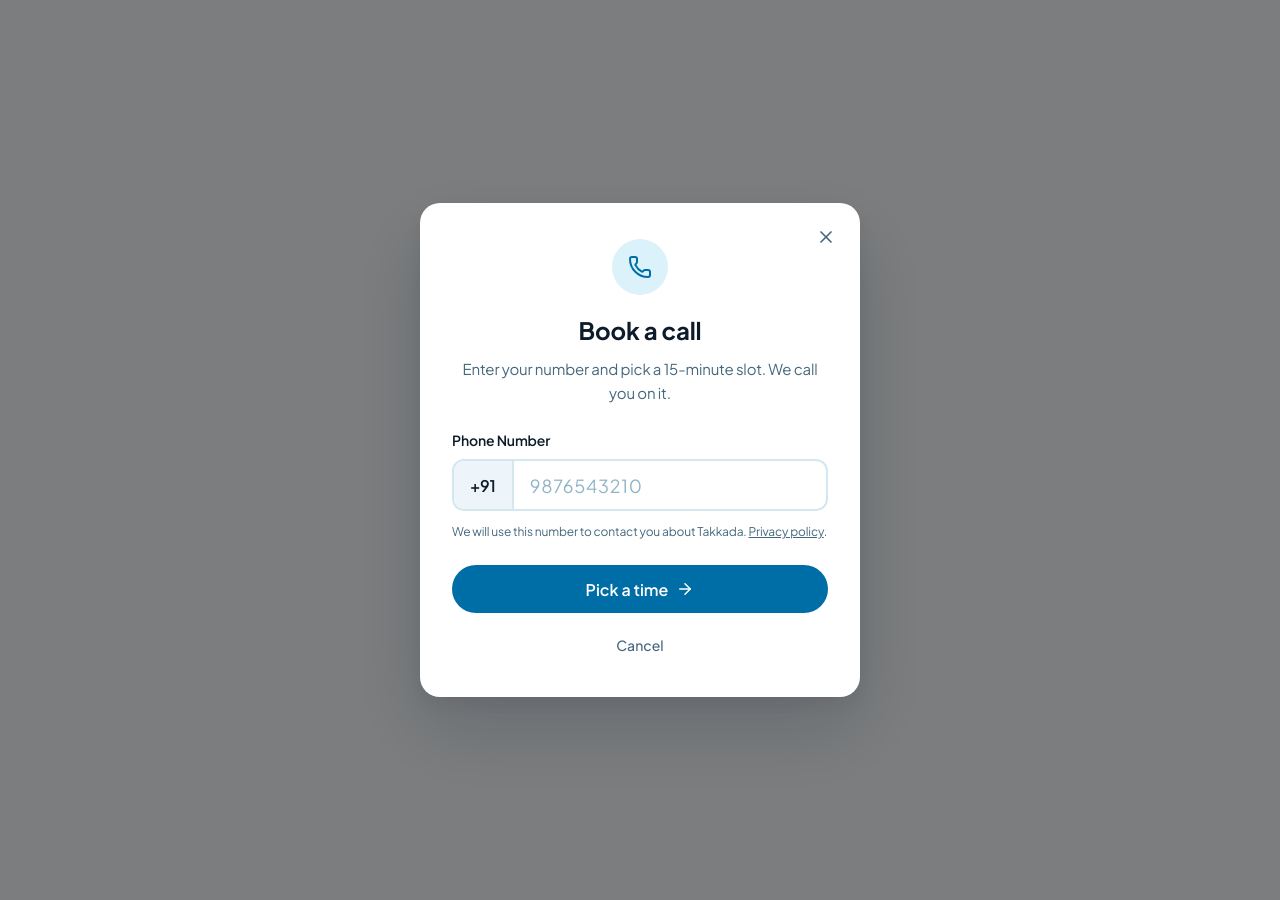
Scenario: PhoneModal › shows a validation error before submitting
What coordinates should you click on to do the following:
click the button "Pick a time"
I would click on:
 (640, 589)
Its box is 452,565 -> 828,613.
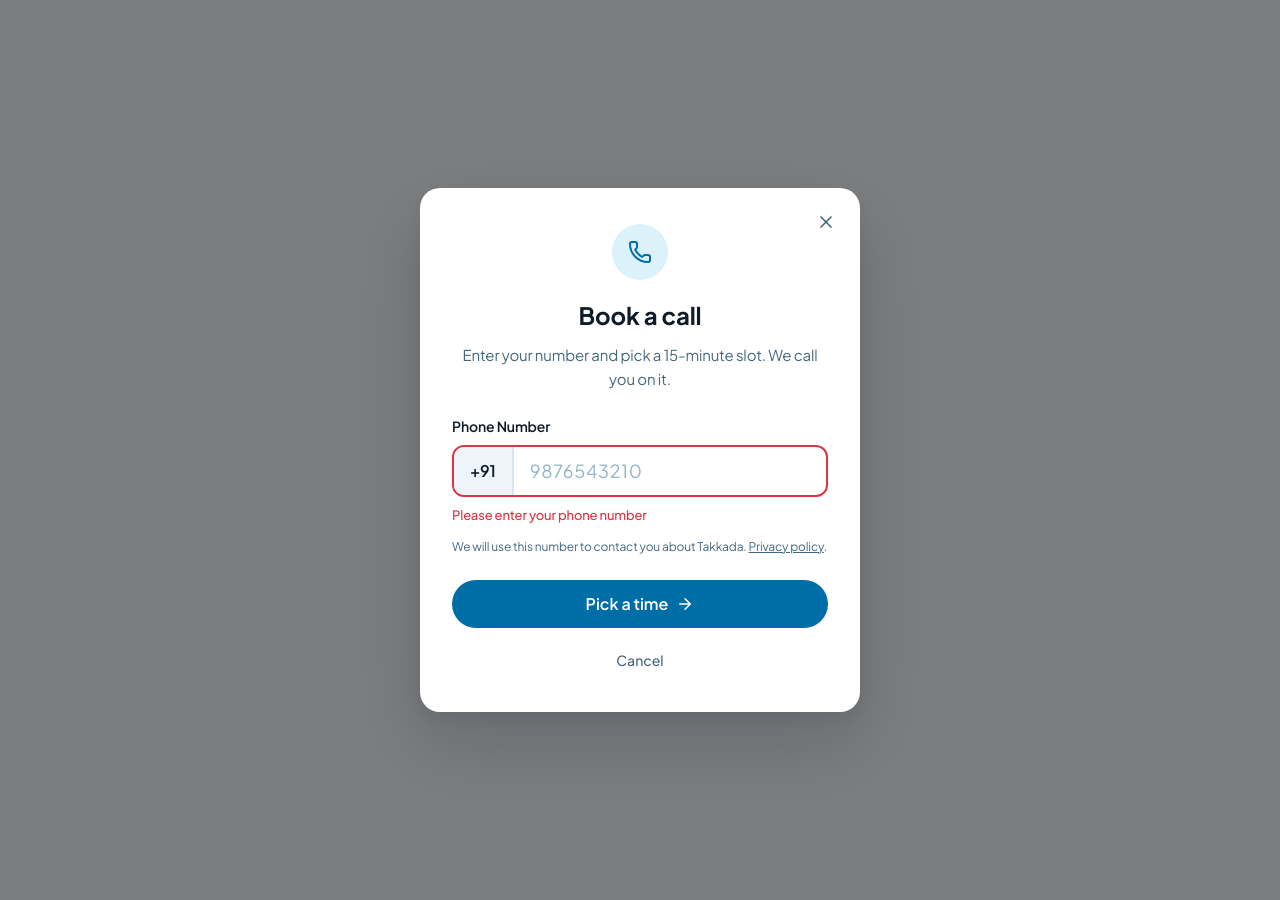
Expected: the text "Please enter your phone number" is shown, 452,507 -> 647,523
